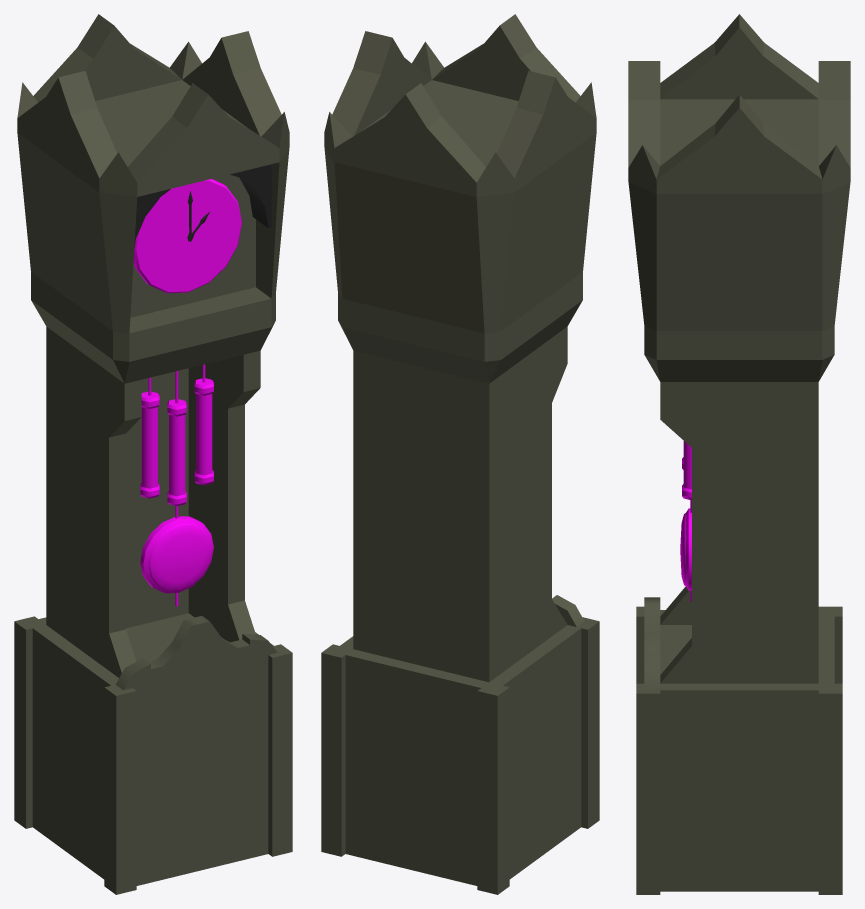
The model's file is GrandfatherClock.fbx.
3 renders of one model, left to right at view 1: azimuth 30°, elevation 25°; view 2: azimuth 150°, elevation 25°; view 3: azimuth 270°, elevation 25°, orthographic.
Visible parts, largest first — view 1: polySurface23; view 2: polySurface23; view 3: polySurface23.
Boxes of the visible parts, left/top/right/bottom form: polySurface23: left=14, top=14, right=292, bottom=894; polySurface23: left=321, top=14, right=599, bottom=894; polySurface23: left=628, top=14, right=850, bottom=894.
Bounding box in the file's own units: 70 × 275 × 70.
Materials: 1 (1 with a texture image).
